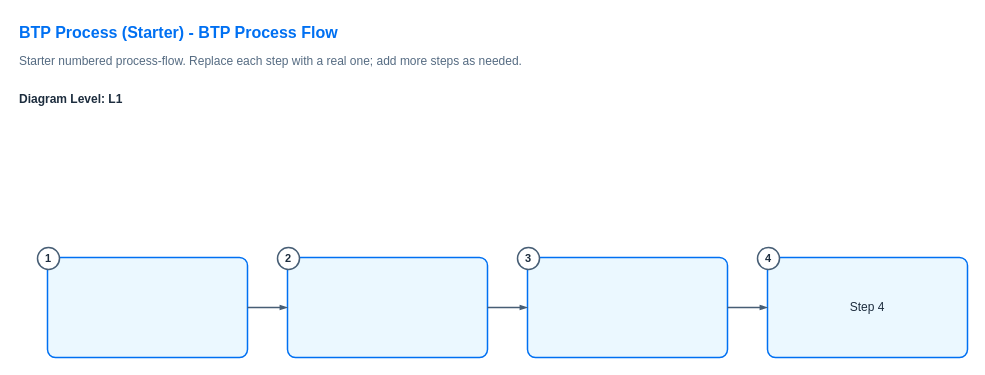
Image size: 985x375. Some labels were removed from this diagram. Here are the shapes that lost their labels. From the top down, the box of each, then its label:
(46, 256, 248, 358): Step 1
(286, 256, 488, 358): Step 2
(526, 256, 728, 358): Step 3
